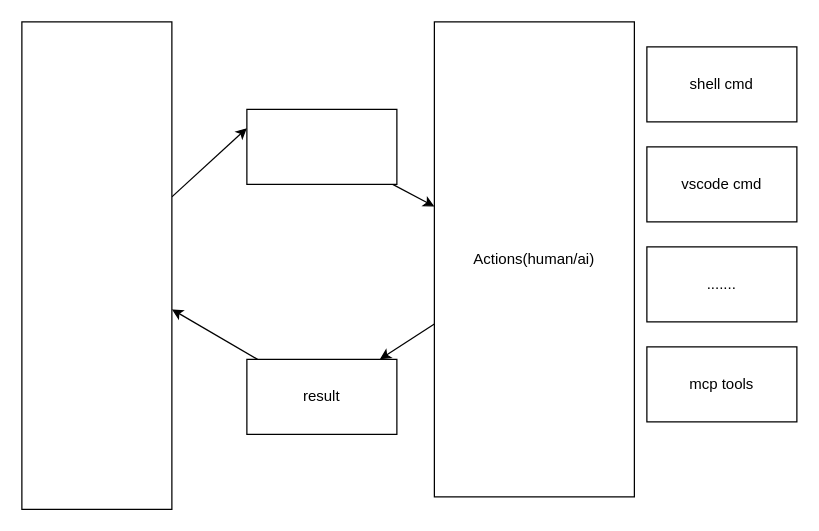
This 819x531 diagram has some shape labels left out. Each missing label, with the centre of its shape:
context: point 96,265
params: point 321,146
